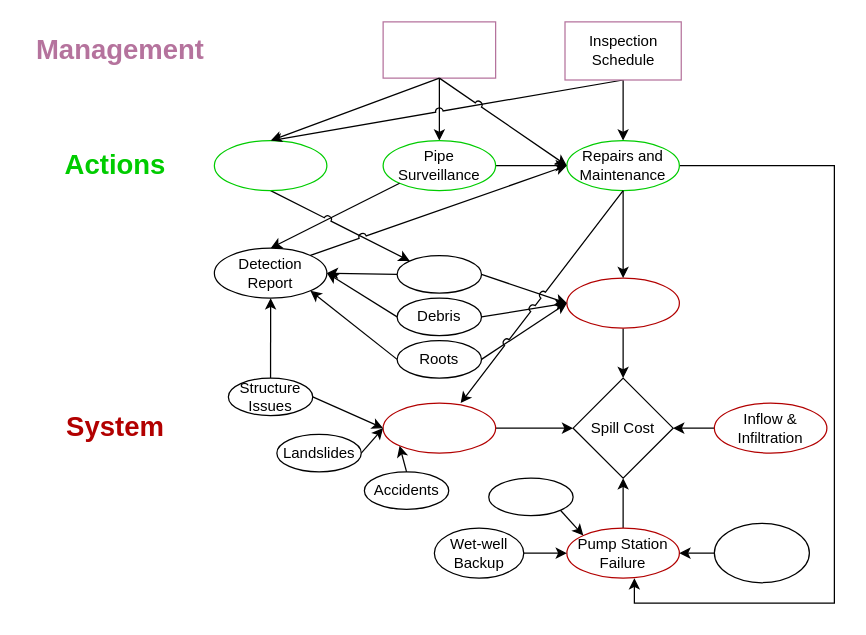
The diagram is 866 pixels wide and 635 high, and some of its shapes have lost their labels. The centre of each missing label's shape, as x and y in pixels:
"Blockage" goes at (x=622, y=302).
"Budget" goes at (x=439, y=49).
"Grease" goes at (x=439, y=273).
"Mechanical Failure" goes at (x=761, y=552).
"Pipe Failure" goes at (x=439, y=427).
"Power Failure" goes at (x=530, y=496).
"Source Control" goes at (x=270, y=165).
